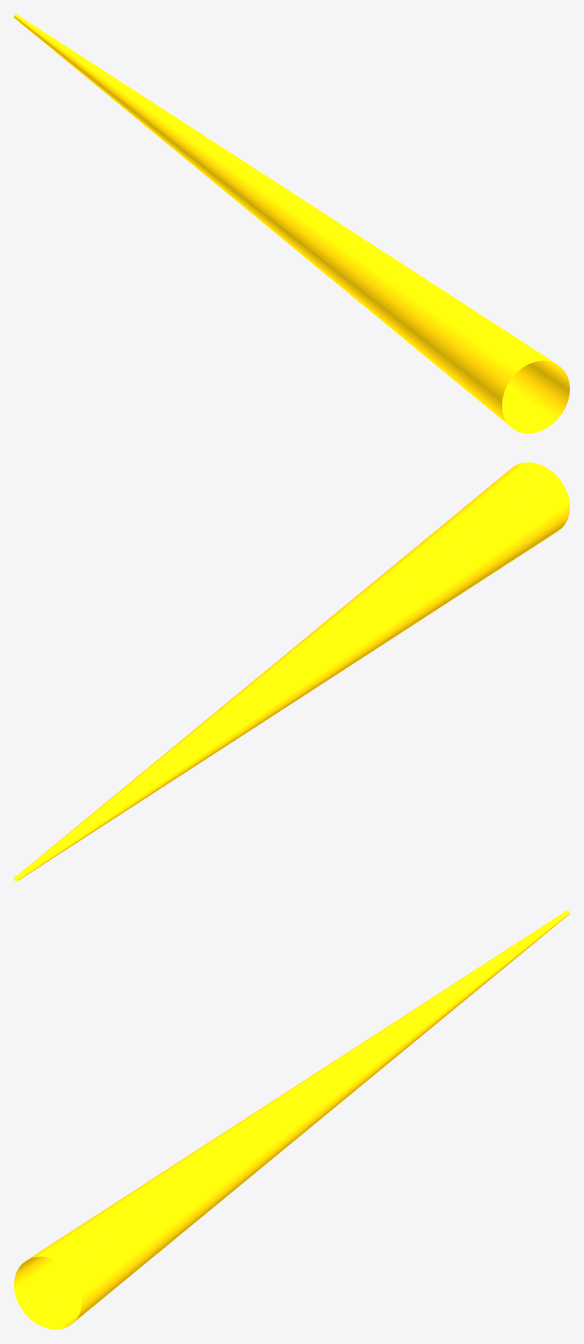
File: nadir_beam_igso.glb
The picture shows the model from 3 angles, top to bottom: view 1: azimuth 30°, elevation 25°; view 2: azimuth 150°, elevation 25°; view 3: azimuth 330°, elevation 25°; orthographic projection.
Parts seen in each view (by area): view 1: MarkerMesh; view 2: MarkerMesh; view 3: MarkerMesh.
Part boxes in pixels (bbox=[...]): MarkerMesh: bbox=[14, 14, 569, 433]; MarkerMesh: bbox=[14, 462, 569, 881]; MarkerMesh: bbox=[14, 910, 569, 1329].
Size of the model in its own units: 2.7 by 2.7 by 35.79.
